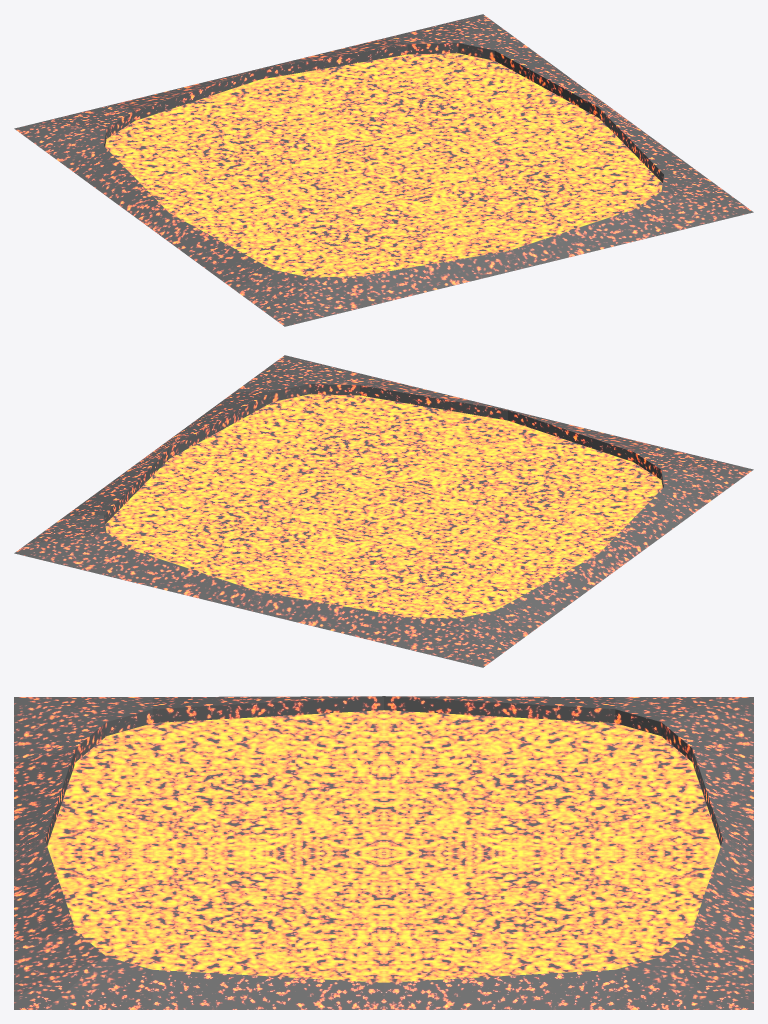
The model's file is stageLava.glb.
The picture shows the model from 3 angles, top to bottom: view 1: azimuth 30°, elevation 25°; view 2: azimuth 150°, elevation 25°; view 3: azimuth 270°, elevation 25°; orthographic projection. The views are drawn at different scales.
Visible parts, largest first — view 1: StageFloor, StageBorder; view 2: StageFloor, StageBorder; view 3: StageFloor, StageBorder.
Boxes of the visible parts, x1,y1,x2,y2 form: StageFloor: [105, 53, 662, 277]; StageBorder: [14, 14, 753, 326]; StageFloor: [105, 394, 662, 618]; StageBorder: [14, 355, 753, 667]; StageFloor: [47, 710, 720, 982]; StageBorder: [14, 696, 753, 1009].
Size of what is drawn, in the model's own units: 48 by 1 by 48.
Materials: 2 (2 with a texture image).
